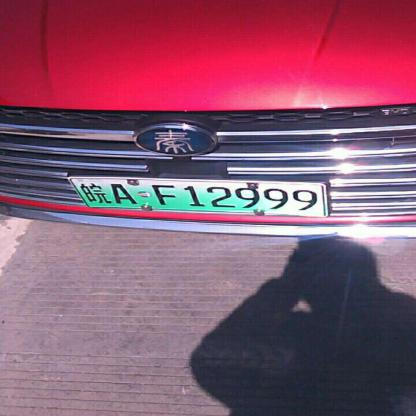lp: (68, 178, 324, 215)
